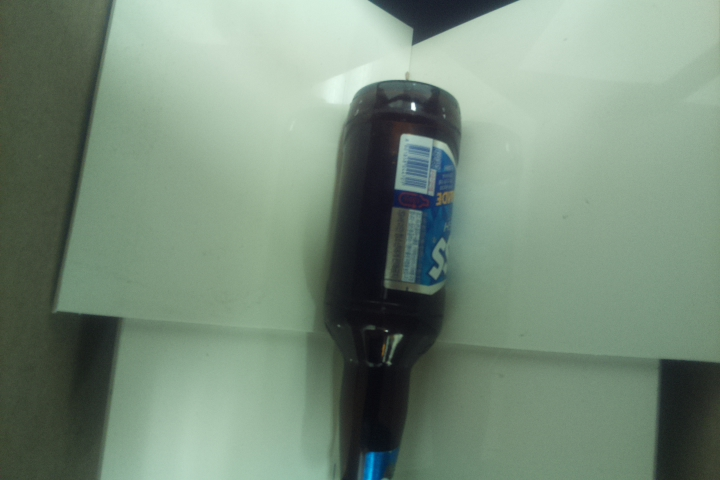makju: (320, 79, 464, 480)
